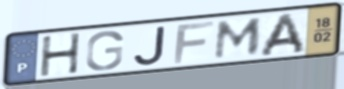A: (257, 12, 308, 59)
F: (171, 20, 217, 66)
G: (84, 29, 126, 72)
H: (39, 31, 84, 79)
J: (132, 24, 169, 67)
M: (212, 16, 265, 61)
